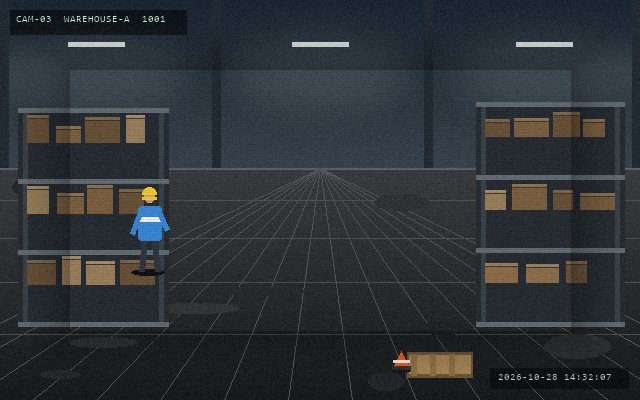cone: (391, 349, 411, 372)
pallet: (405, 350, 474, 379)
person: (130, 186, 169, 274)
shelf: (476, 102, 624, 322), (18, 108, 168, 322)
